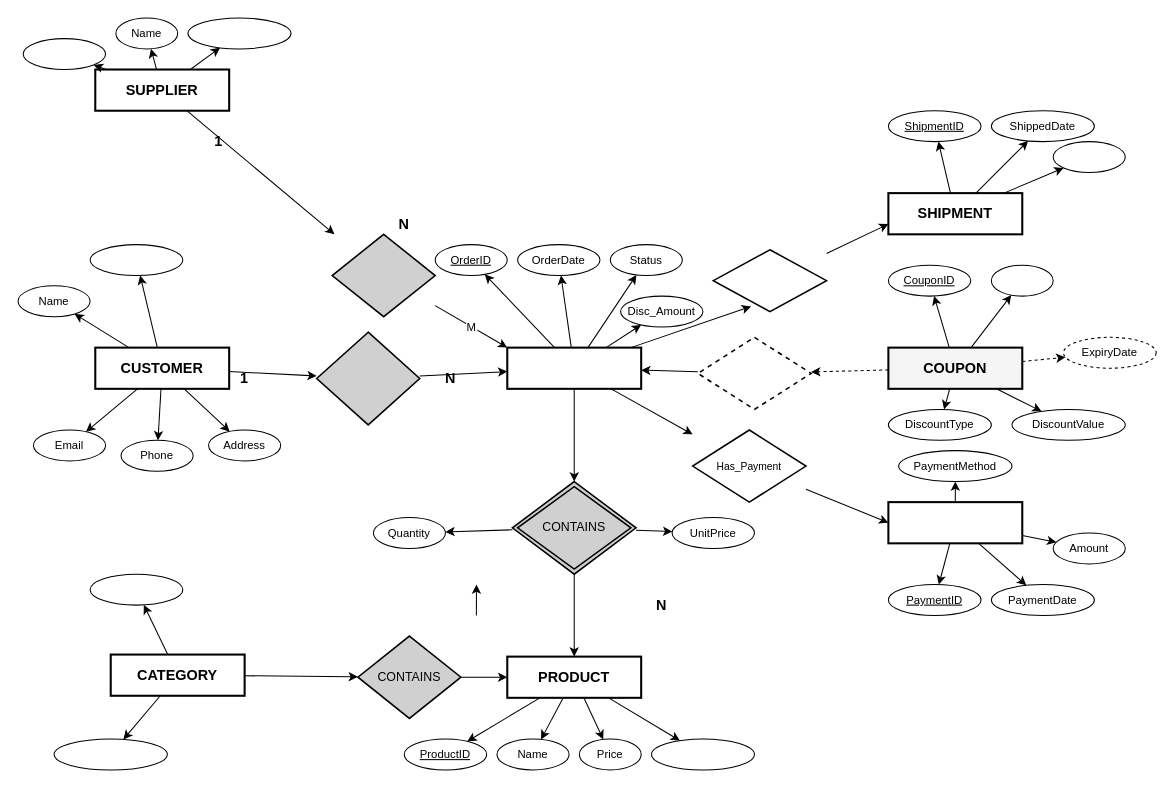
Image size: 1174x788. Some labels were removed from this diagram. The box of each missing label's shape, as (x1, y1, x2, y2) in pixels:
APPLIED_TO: (697, 336, 811, 410)
Carrier: (1052, 141, 1125, 173)
CategoryID: (89, 573, 183, 605)
CategoryName: (53, 738, 167, 770)
Code: (990, 264, 1053, 296)
ContactEmail: (187, 17, 291, 49)
CustomerID: (89, 244, 183, 276)
Has_Shiped: (712, 249, 827, 312)
ORDERS: (506, 346, 642, 389)
PAYMENT: (887, 501, 1023, 544)
PLACES: (315, 331, 420, 425)
StockQuantity: (650, 738, 754, 770)
SupplierID: (22, 38, 106, 70)
SUPPLIES: (331, 233, 435, 317)
